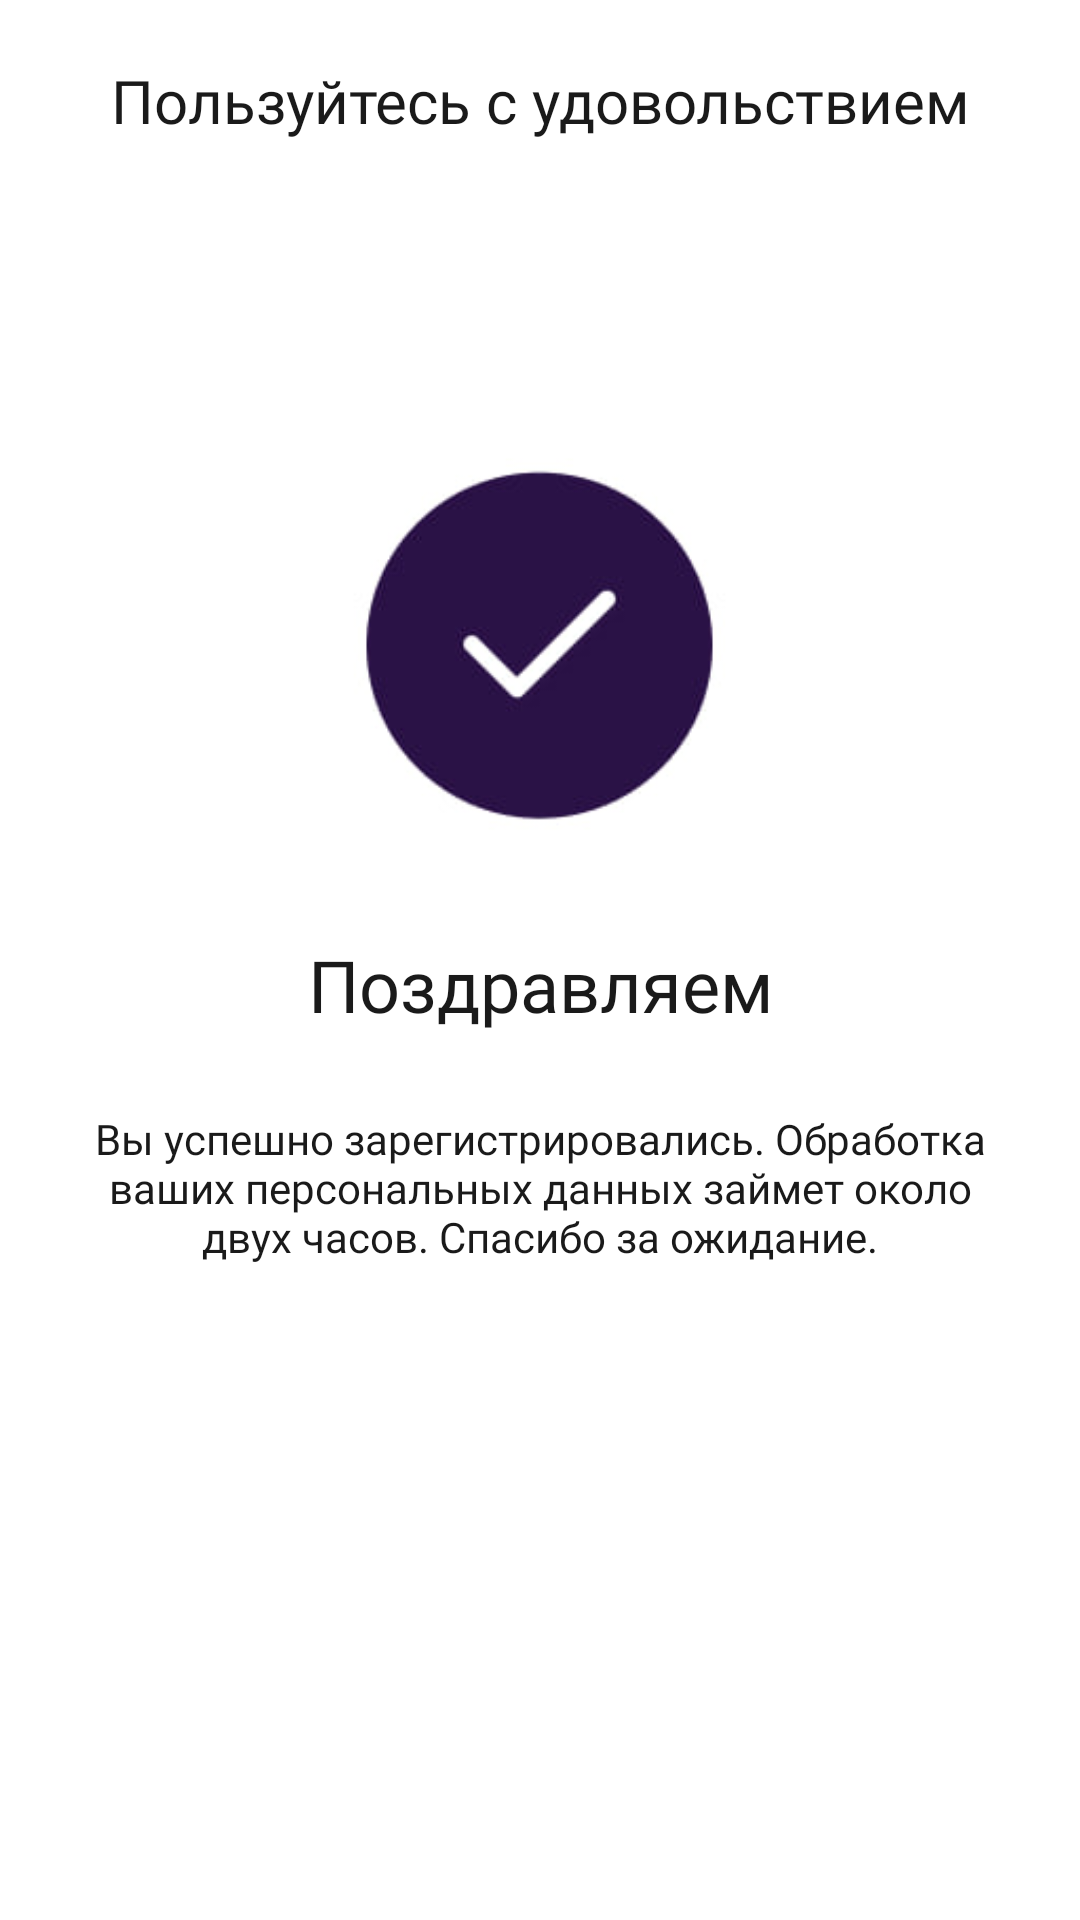

Icons on this 1080w x 1920h Android screen, each with the point to tap as [x,y]:
successfull: [539,645]
